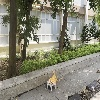fire: (48, 71, 58, 84)
